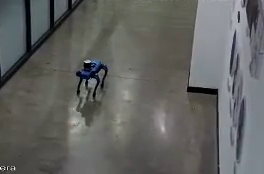robot dog: (74, 56, 109, 103)
